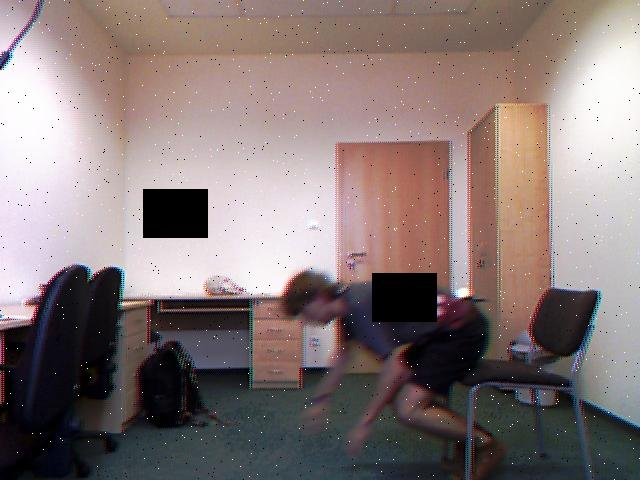near-fall: (269, 262, 511, 480)
